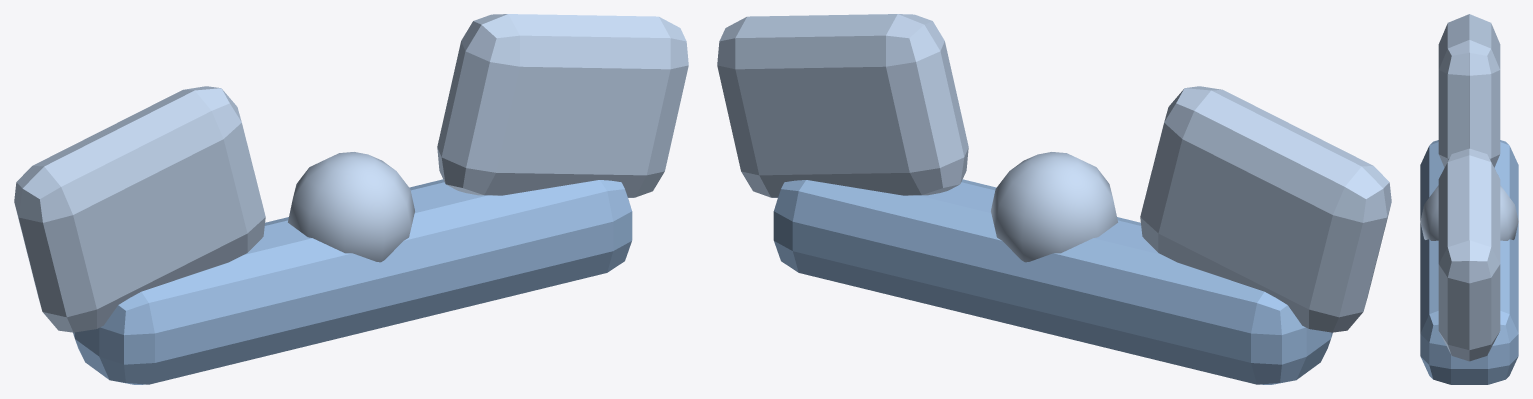
The model's file is VM-DAM-SH33307455.glb.
3 renders of one model, left to right at view 1: azimuth 30°, elevation 25°; view 2: azimuth 150°, elevation 25°; view 3: azimuth 270°, elevation 25°, orthographic. The views are drawn at different scales.
Visible parts, largest first — view 1: Pinza de Cabello Lazo Satinado; view 2: Pinza de Cabello Lazo Satinado; view 3: Pinza de Cabello Lazo Satinado.
Boxes of the visible parts, x1,y1,x2,y2 form: Pinza de Cabello Lazo Satinado: (14,14,688,384); Pinza de Cabello Lazo Satinado: (717,14,1391,384); Pinza de Cabello Lazo Satinado: (1420,14,1518,384).
Size of the model in its own units: 0.0897 by 0.0345 by 0.0152.
